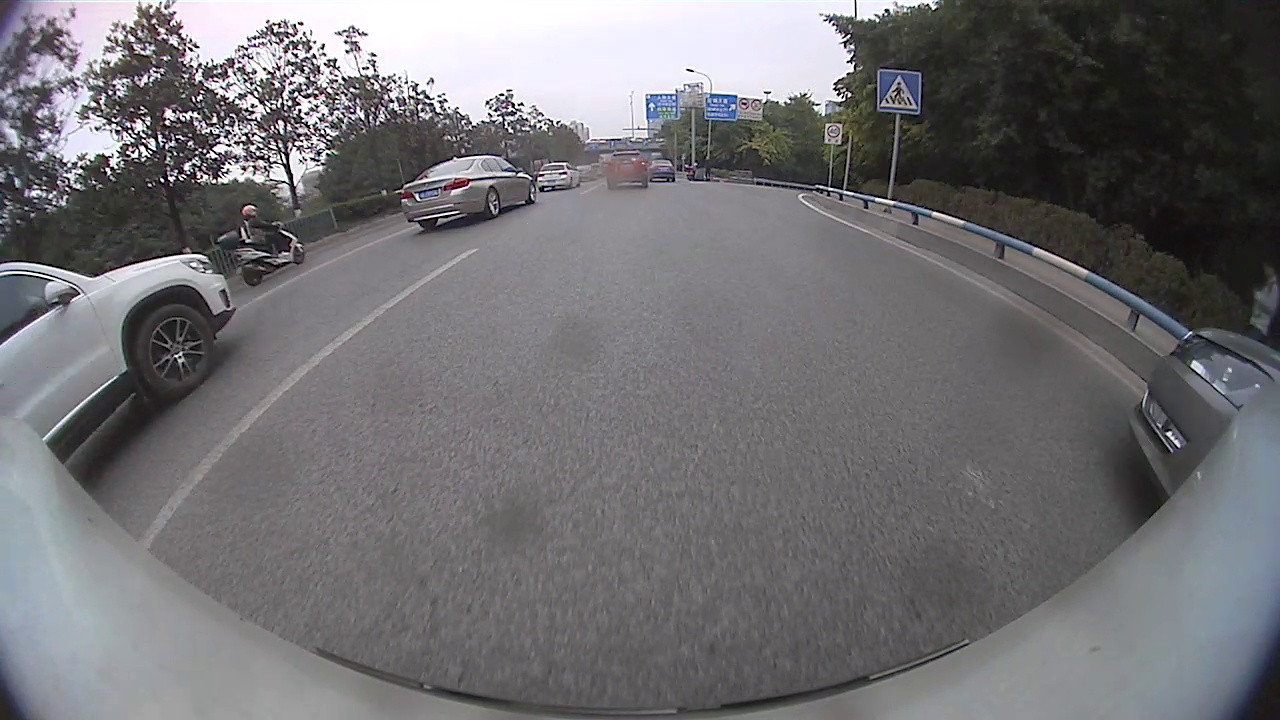car: (3, 252, 236, 467), (1126, 324, 1278, 504), (399, 153, 539, 233), (603, 147, 651, 192), (535, 162, 583, 193)
front: (137, 304, 216, 395), (528, 183, 542, 204)
person: (1262, 257, 1279, 346)
rear: (484, 187, 503, 218)
rider: (213, 200, 309, 287)
